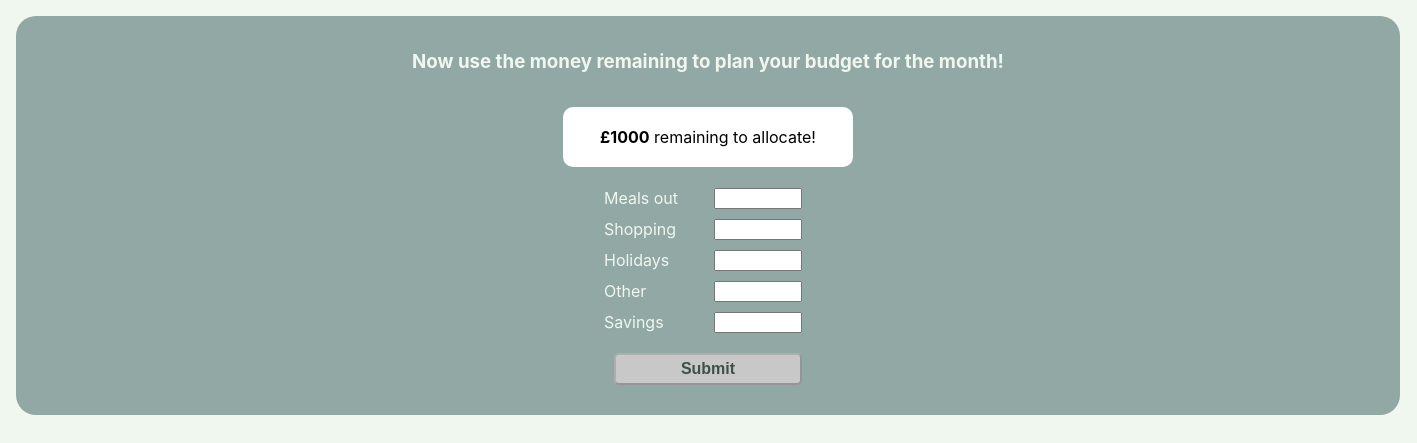
Test case: BudgetPlan › when remaining = 0 and submit button is clicked, the form is hidden and budget is displayed
The width and height of the screenshot is (1417, 443).
Type "1000" into the number field with test id "meals-input" at (758, 199), box [714,188,802,209]
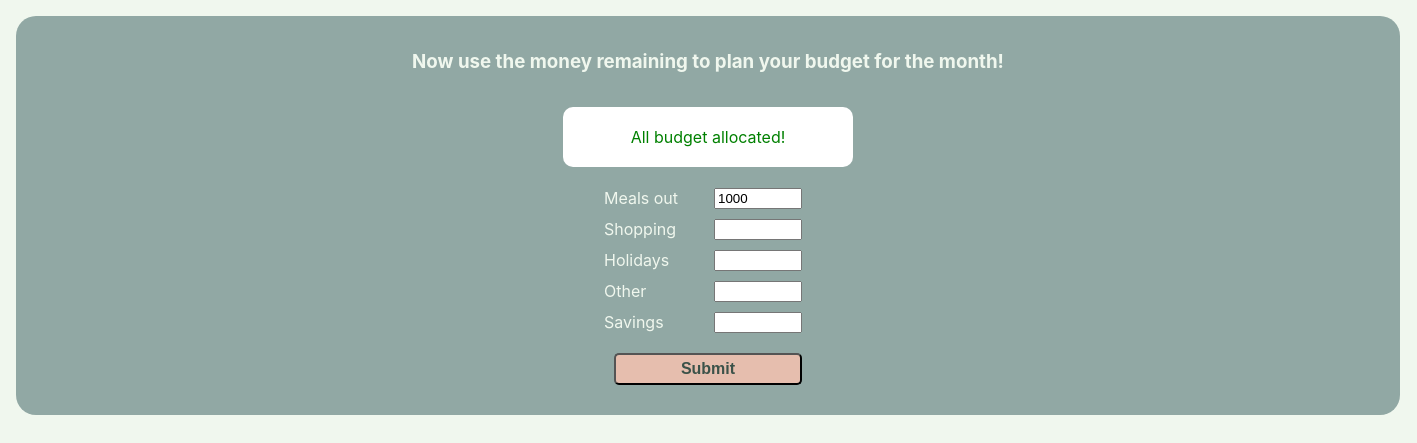
expect the button "Submit" does not have attribute disabled: met
Click the button "Submit" at (708, 369), box [614,353,802,385]
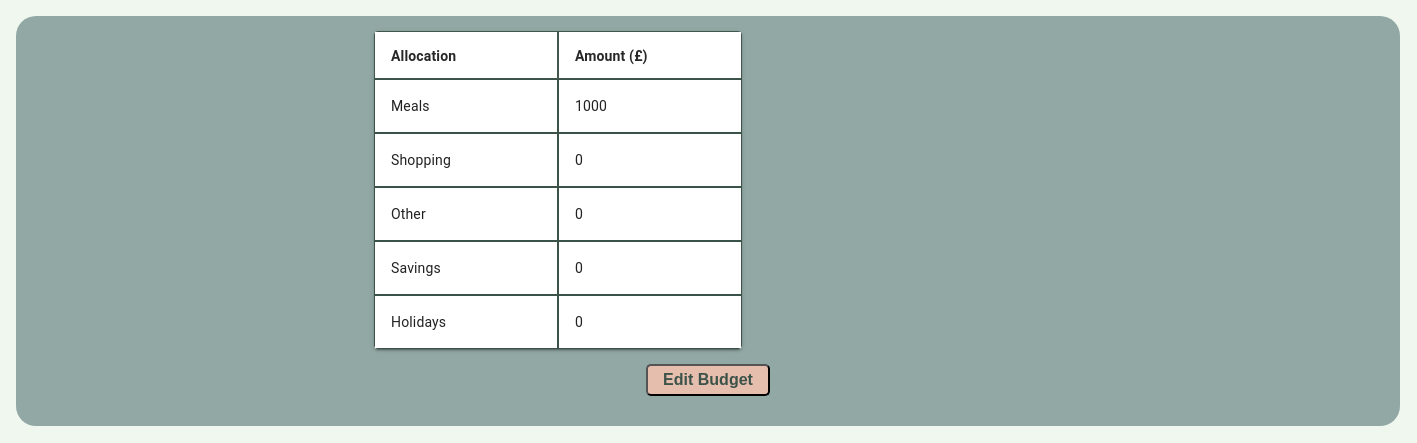
expect the button "Edit Budget" is shown: met, box [646,364,770,396]
